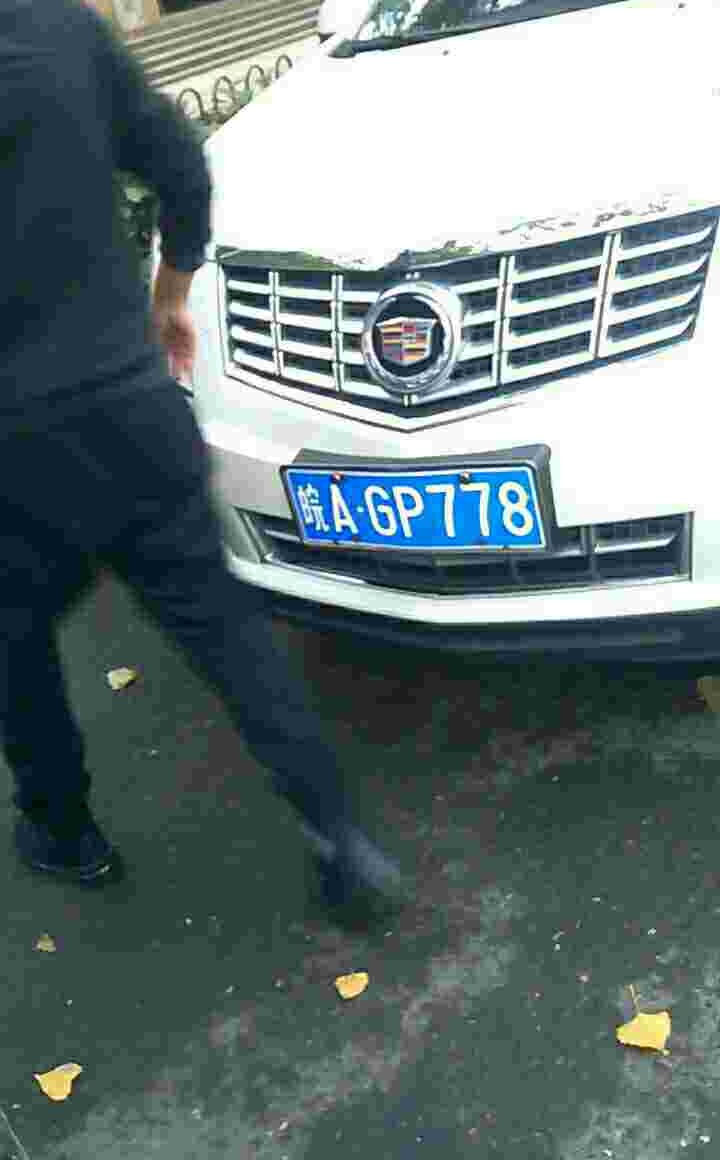license_plate: (296, 469, 536, 559)
